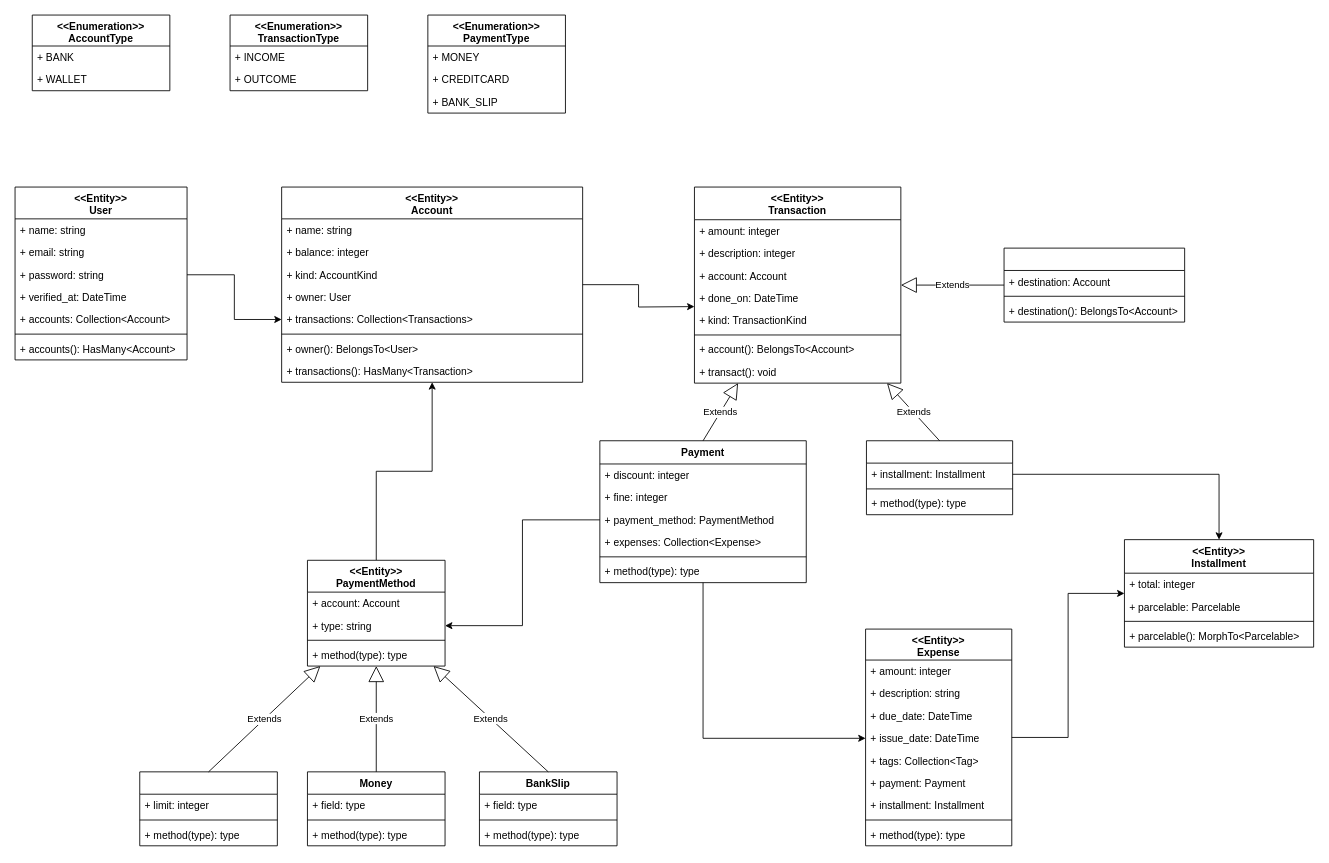
Image size: 1329x863. Some labels were removed from this diagram. Each missing label, with the box of its shape:
CreditCard: (139, 771, 277, 846)
Revenue: (866, 440, 1013, 515)
Transfer: (1003, 247, 1185, 322)
